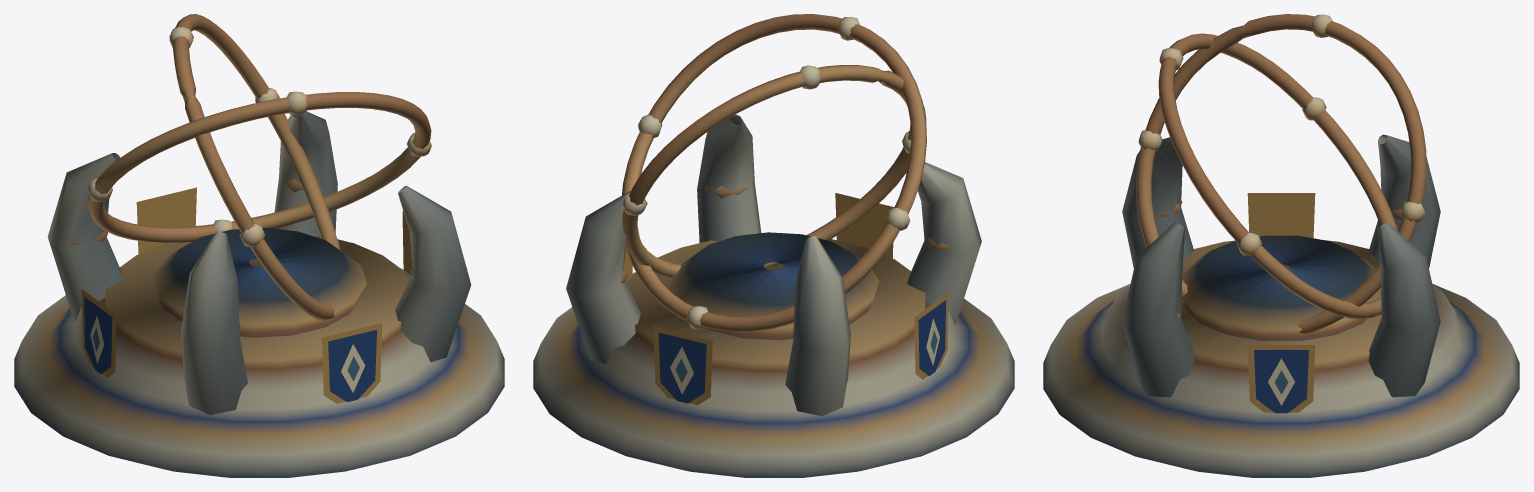
File: core_observatory.glb
The picture shows the model from 3 angles, left to right: view 1: azimuth 30°, elevation 25°; view 2: azimuth 150°, elevation 25°; view 3: azimuth 270°, elevation 25°; orthographic projection. The views are drawn at different scales.
Parts seen in each view (by area): view 1: core_observatory; view 2: core_observatory; view 3: core_observatory.
Part boxes in pixels (<box>): core_observatory: <box>14,14,504,477</box>; core_observatory: <box>533,14,1014,477</box>; core_observatory: <box>1043,14,1519,477</box>.
Bounding box in the file's own units: 3.79 × 3.03 × 3.79.
